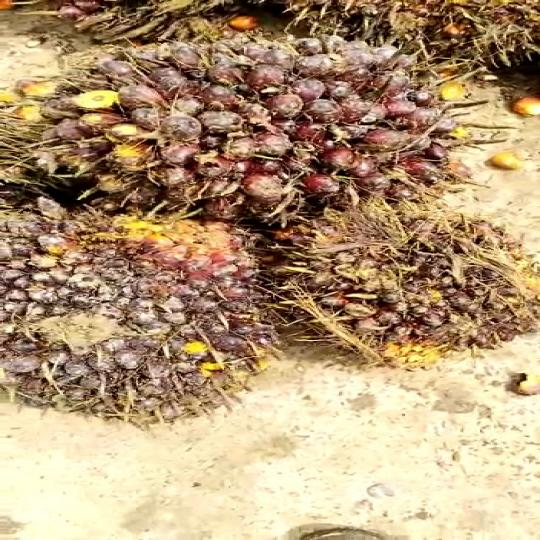kurang masak: (13, 28, 495, 226), (0, 205, 304, 414), (242, 206, 540, 361)
